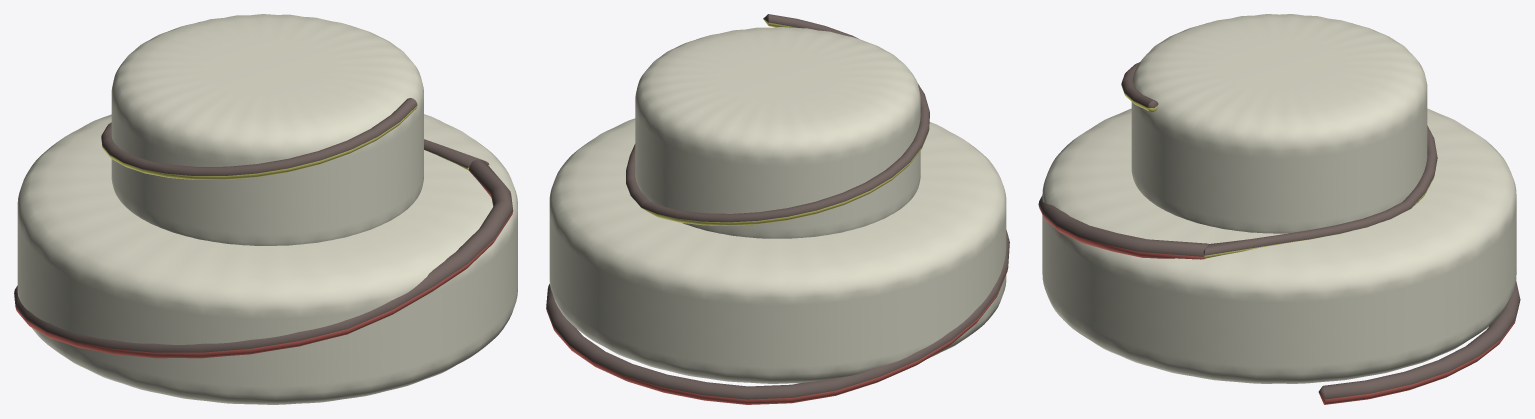
Rendered from cake.glb.
The picture shows the model from 3 angles, left to right: view 1: azimuth 30°, elevation 25°; view 2: azimuth 150°, elevation 25°; view 3: azimuth 270°, elevation 25°; orthographic projection. The views are drawn at different scales.
Visible parts, largest first — view 1: Cylinder (×2), Torus.1-Mat.1, Torus-Mat.1, Torus.1-Mat.3, Torus-Mat.2; view 2: Cylinder (×2), Torus.1-Mat.1, Torus-Mat.1, Torus.1-Mat.3, Torus-Mat.2; view 3: Cylinder (×2), Torus.1-Mat.1, Torus-Mat.1, Torus.1-Mat.3.
Part boxes in pixels (x1,y1,x2,y2): Cylinder (×2): [17, 14, 517, 404]; Torus.1-Mat.1: [14, 159, 513, 352]; Torus-Mat.1: [101, 98, 489, 175]; Torus.1-Mat.3: [15, 170, 512, 358]; Torus-Mat.2: [102, 105, 489, 179]; Cylinder (×2): [549, 27, 1006, 383]; Torus.1-Mat.1: [546, 230, 1009, 399]; Torus-Mat.1: [626, 14, 929, 222]; Torus.1-Mat.3: [546, 269, 1007, 404]; Torus-Mat.2: [632, 19, 928, 225]; Cylinder (×2): [1042, 14, 1516, 383]; Torus.1-Mat.1: [1038, 196, 1520, 399]; Torus-Mat.1: [1121, 62, 1437, 255]; Torus.1-Mat.3: [1038, 205, 1515, 404].
Bounding box in the file's own units: 3967 × 2233 × 4000.
